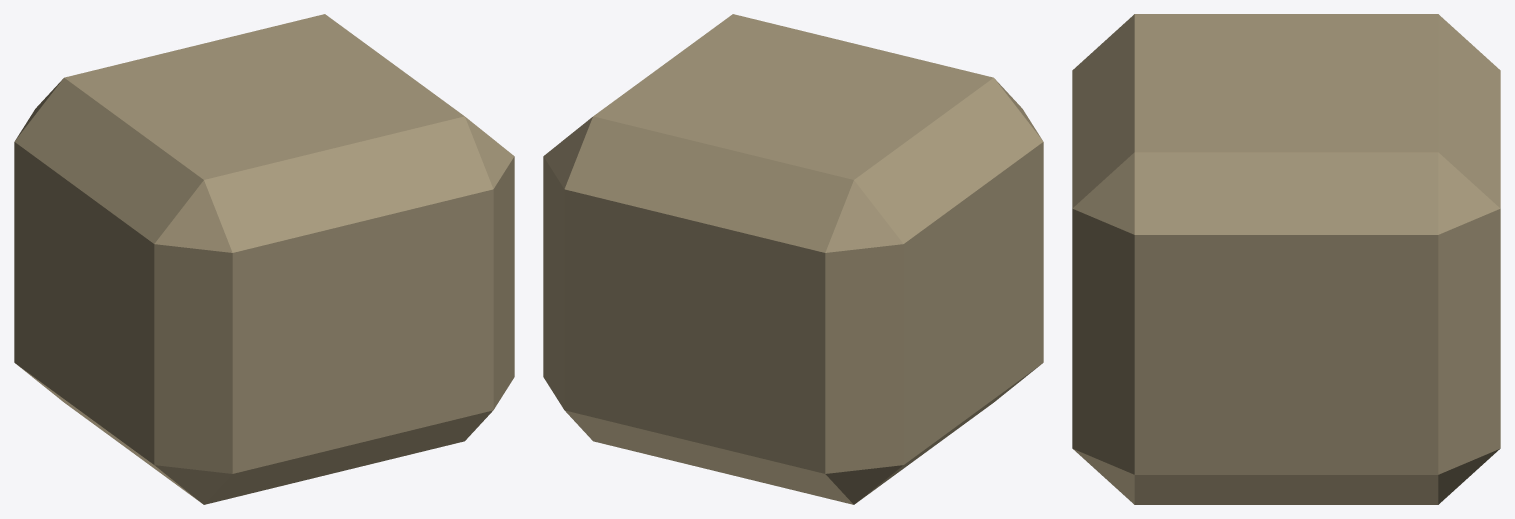
File: item-stone.glb
The picture shows the model from 3 angles, left to right: view 1: azimuth 30°, elevation 25°; view 2: azimuth 150°, elevation 25°; view 3: azimuth 270°, elevation 25°; orthographic projection. The views are drawn at different scales.
Parts seen in each view (by area): view 1: item-stone.001; view 2: item-stone.001; view 3: item-stone.001.
Boxes of the visible parts, <box> form: item-stone.001: <box>14,14,514,504</box>; item-stone.001: <box>543,14,1043,504</box>; item-stone.001: <box>1072,14,1500,504</box>.
Bounding box in the file's own units: 0.58 × 0.5 × 0.55.
